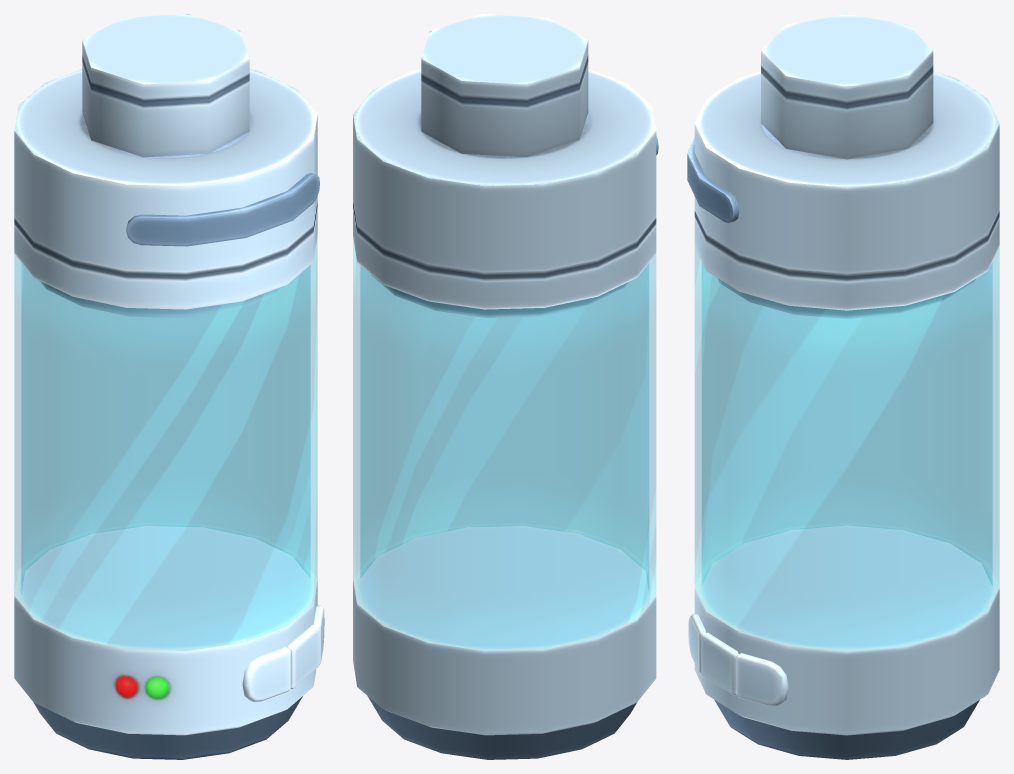
The model's file is obj_flask.gltf.
3 renders of one model, left to right at view 1: azimuth 30°, elevation 25°; view 2: azimuth 150°, elevation 25°; view 3: azimuth 270°, elevation 25°, orthographic.
Visible parts, largest first — view 1: obj_flask, obj_flask_alpha; view 2: obj_flask, obj_flask_alpha; view 3: obj_flask, obj_flask_alpha.
Part boxes in pixels (left/top/right/bottom): obj_flask: left=14, top=14, right=324, bottom=759; obj_flask_alpha: left=14, top=240, right=317, bottom=650; obj_flask: left=353, top=14, right=658, bottom=759; obj_flask_alpha: left=353, top=239, right=655, bottom=650; obj_flask: left=687, top=14, right=999, bottom=759; obj_flask_alpha: left=695, top=247, right=999, bottom=650.
Bounding box in the file's own units: 0.6632 × 1.57 × 0.6791.
2 materials, 2 textured.
